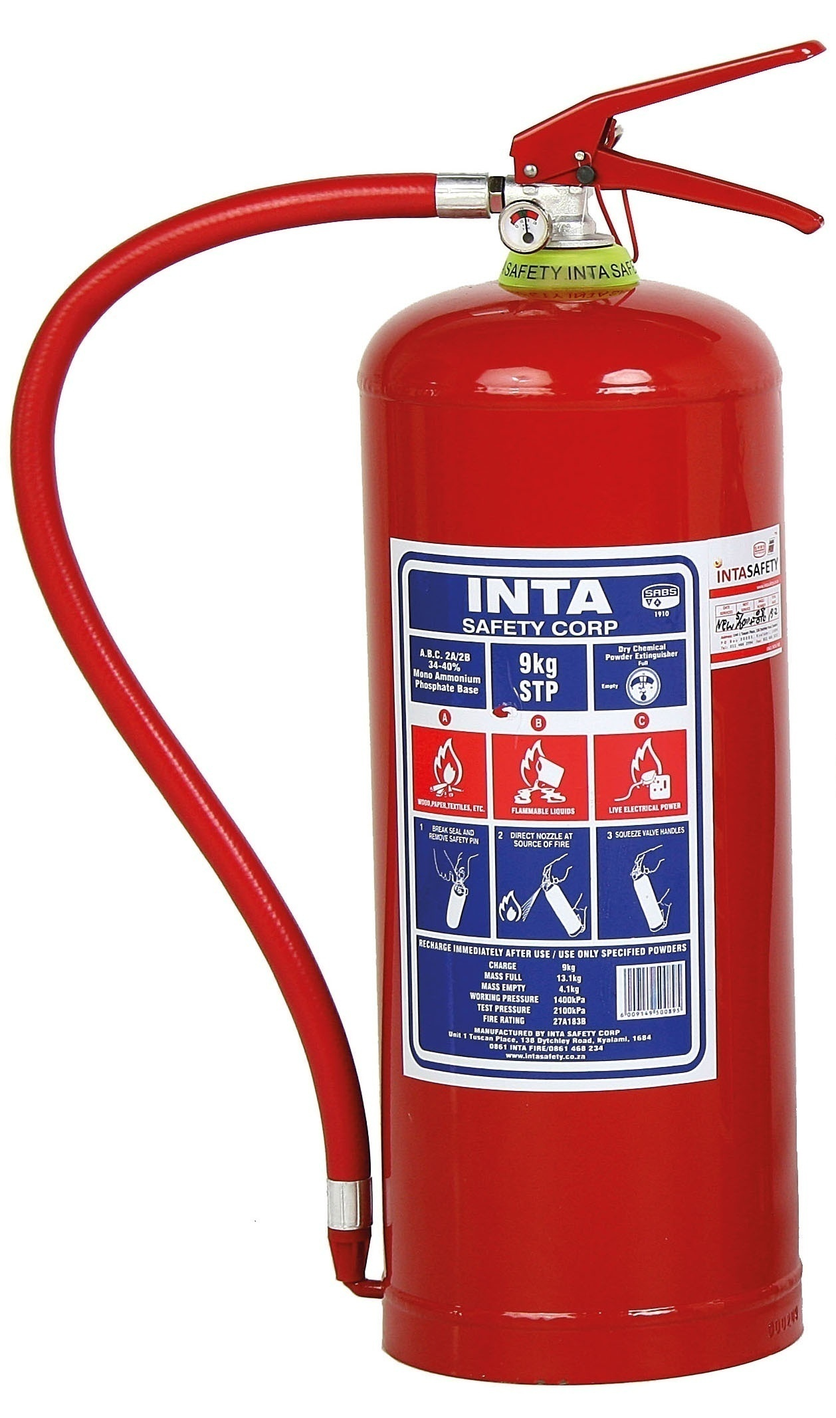fire_extinguisher: (9, 38, 827, 1386)
